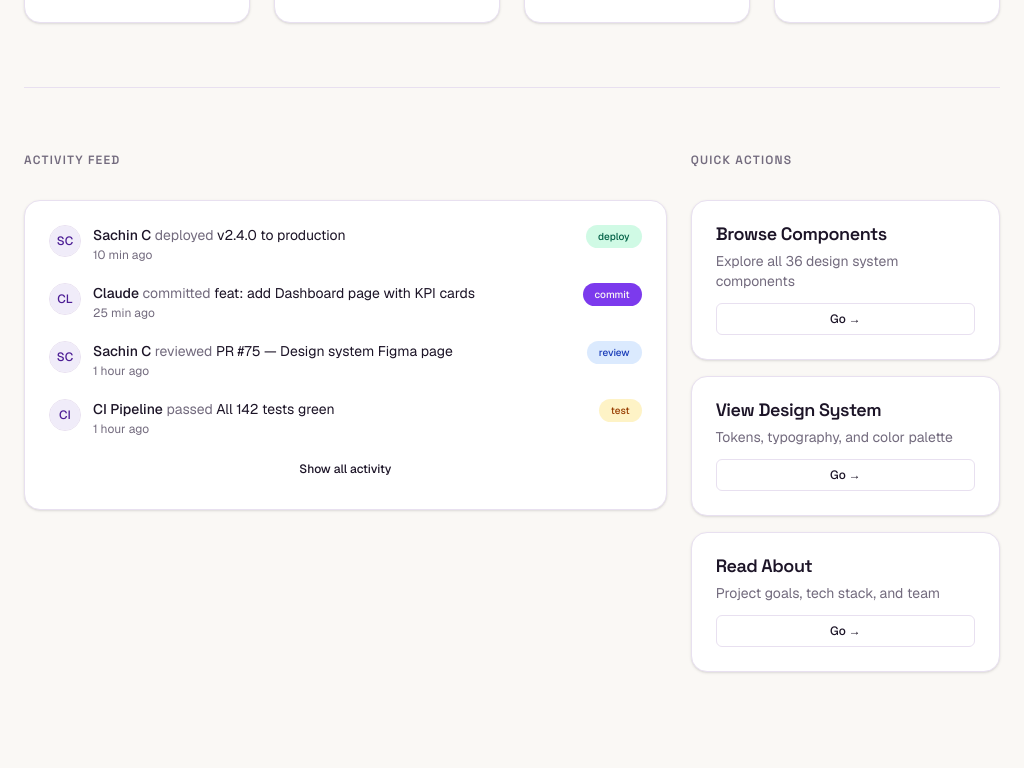
it: DashboardContent › activity feed › shows all items after clicking Show all activity
This screenshot has width=1024, height=768.
(page scrolled)
Click the button "Show all activity" at (345, 469), box [49, 453, 642, 485]
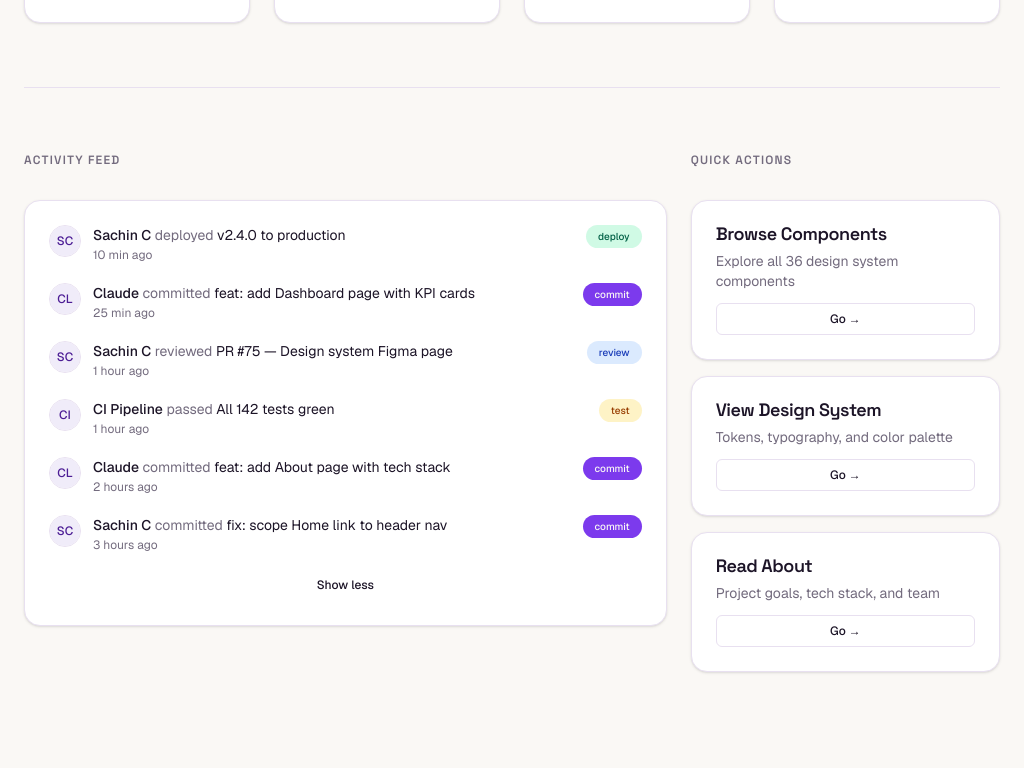
Check: the text "feat: add About page with tech stack" is shown, box [214, 458, 451, 476]
Check: the text "fix: scope Home link to header nav" is shown, box [226, 516, 447, 534]
